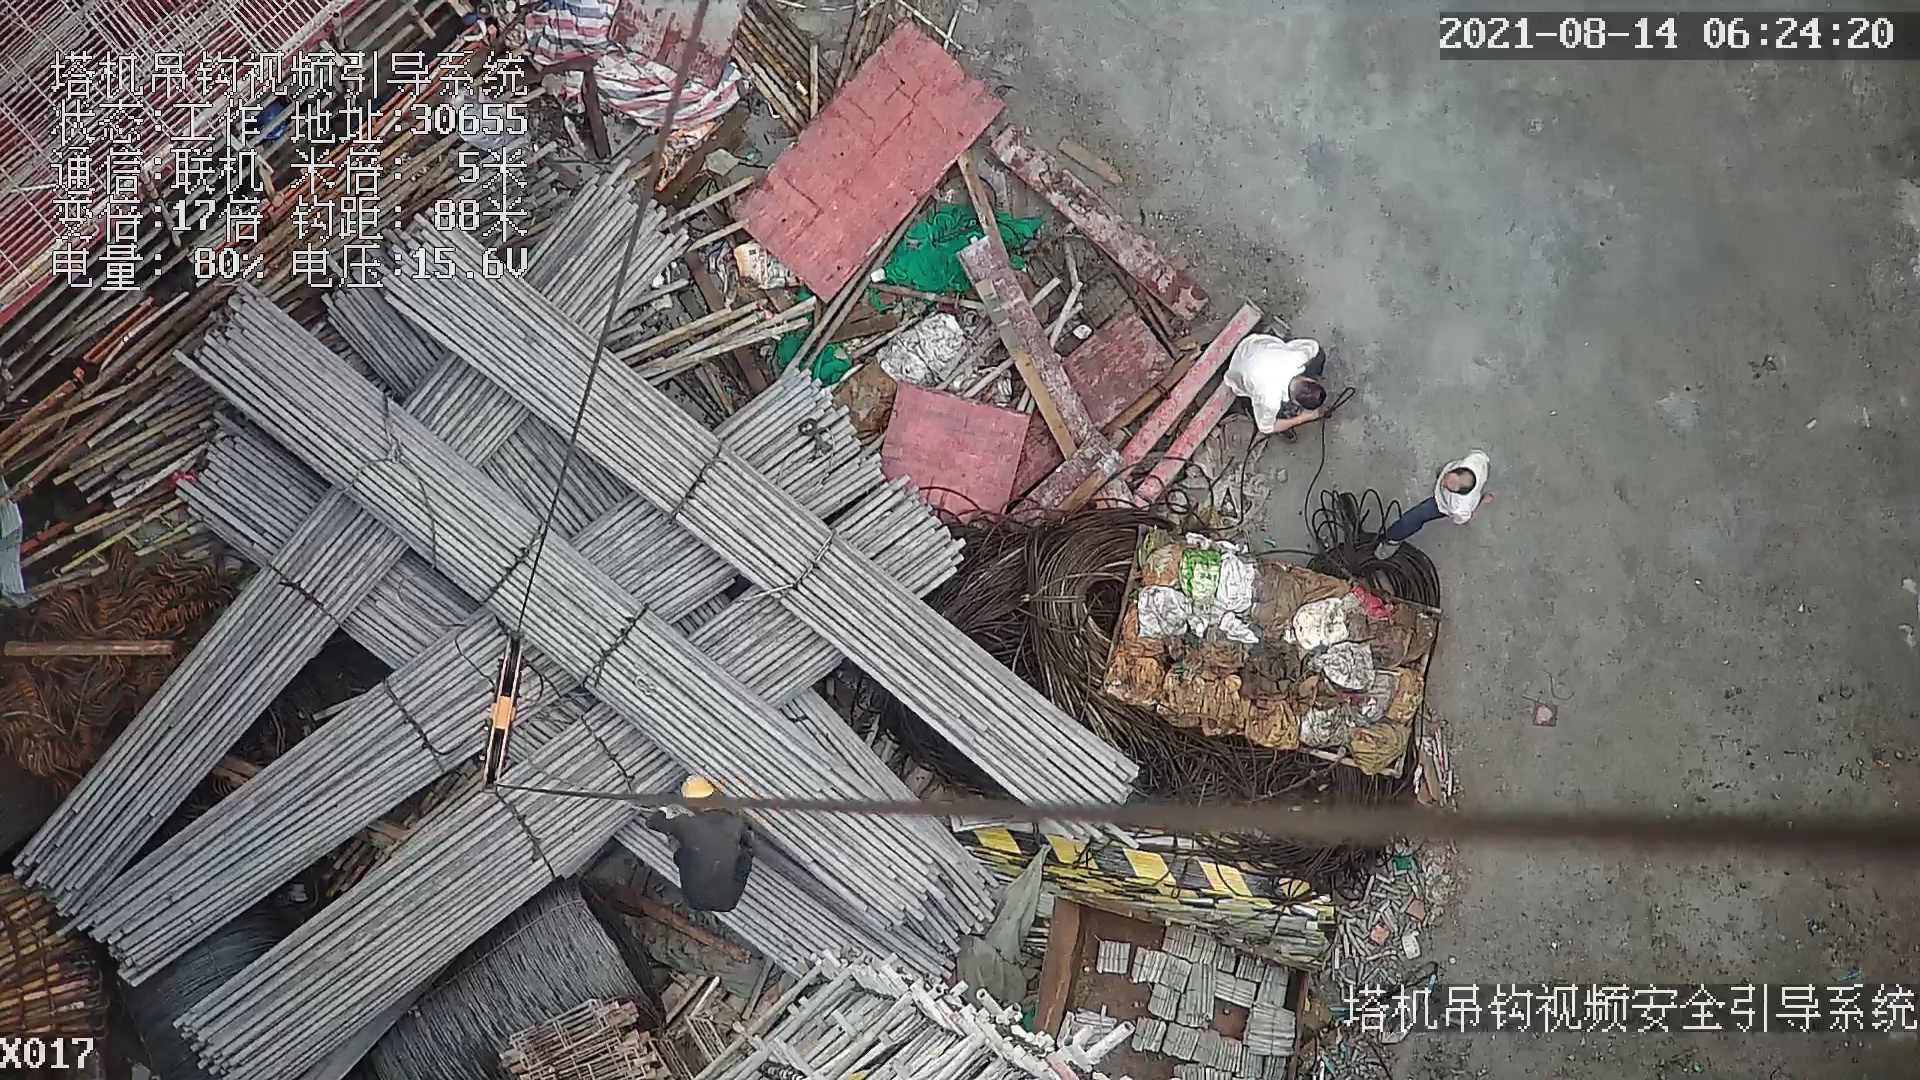helmet: (681, 774, 714, 797)
hook: (477, 621, 531, 808)
person: (645, 774, 767, 917), (1377, 441, 1494, 559), (1214, 330, 1326, 433)
rebar: (182, 287, 947, 919), (366, 281, 1140, 846), (170, 704, 694, 1080), (73, 610, 582, 981), (20, 481, 408, 919)
wood: (1, 868, 111, 1036)
